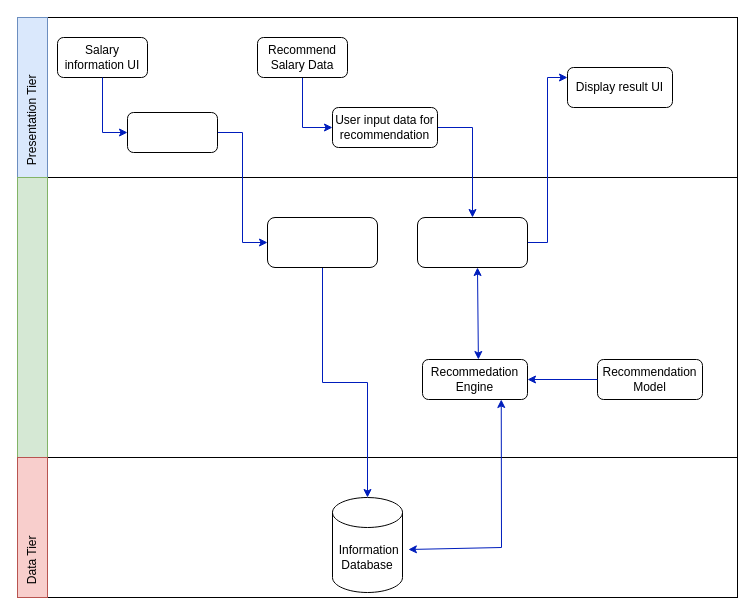
The diagram is 755 pixels wide and 615 high, and some of its shapes have lost their labels. Each missing label, with the centre of its shape:
"Input Salary information" goes at [172,132].
"Logic Tier" goes at [32,317].
"Salary details save API" goes at [322,242].
"User recommendation API" goes at [472,242].
